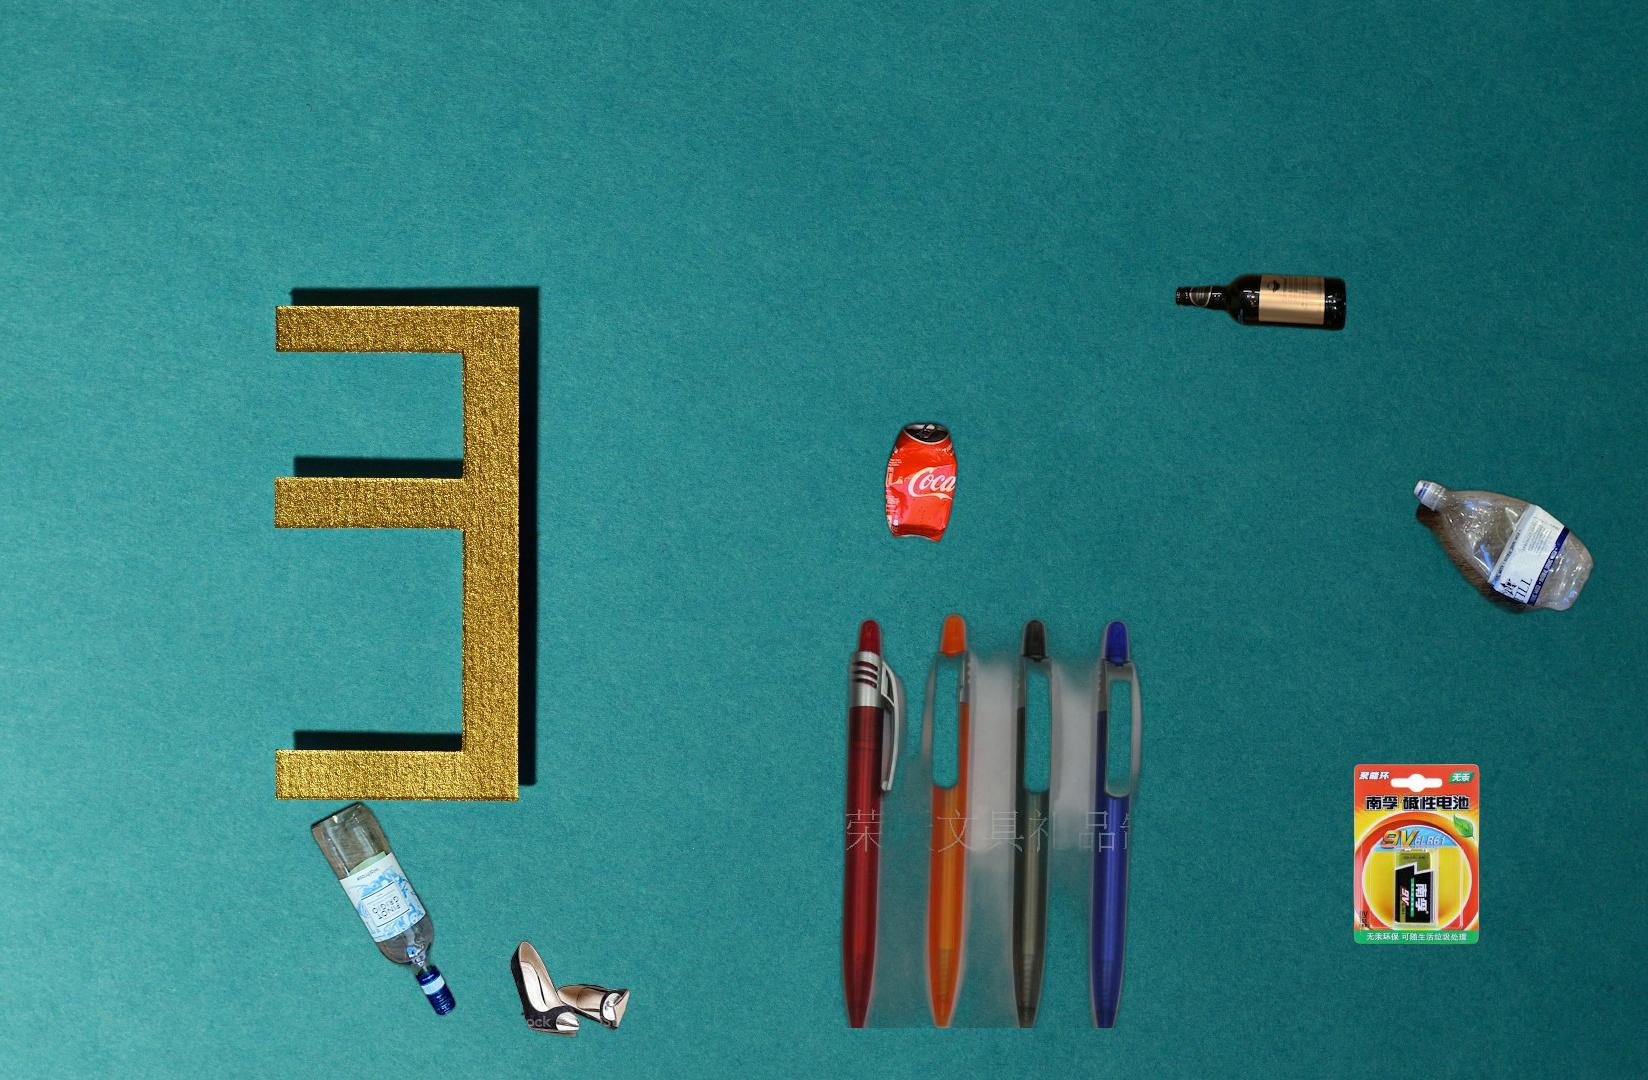battery: (1351, 761, 1483, 947)
glass: (307, 796, 461, 1022), (1171, 268, 1351, 334)
metal-cans: (880, 416, 963, 548)
penholder: (835, 605, 1219, 1028)
plastic-bottles: (1404, 474, 1599, 620)
shoes: (508, 938, 633, 1040)
